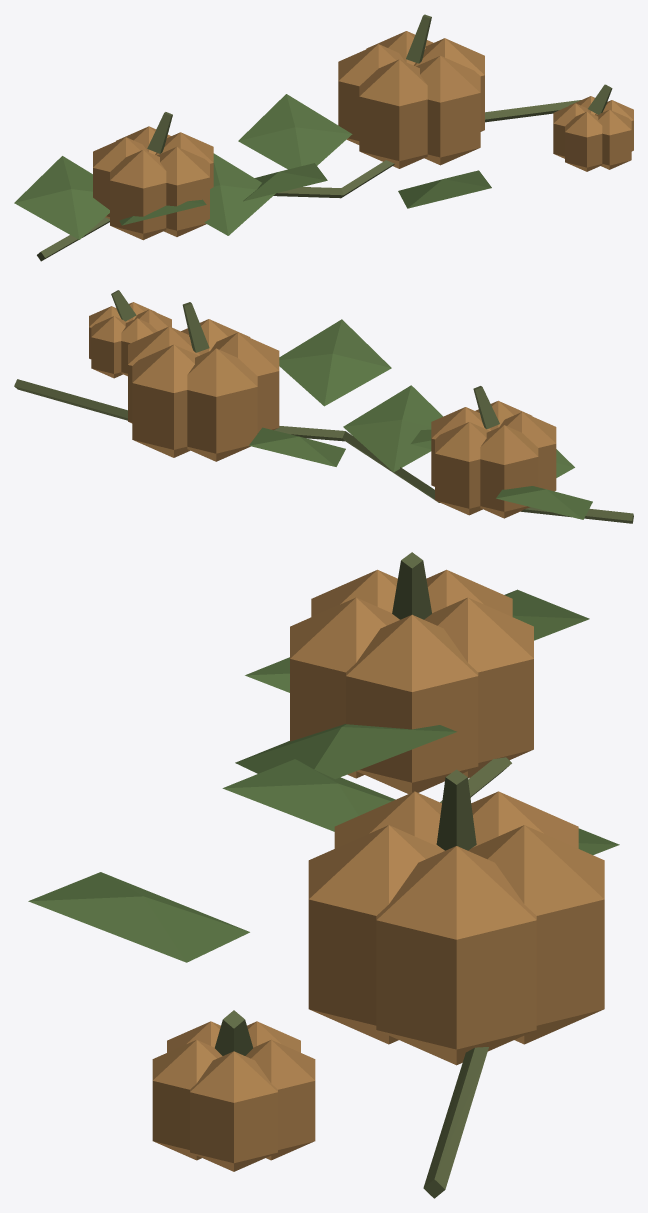
The model's file is Plant_Feature_Pastoral_PumpkinVines_001_LOD1.glb.
3 renders of one model, top to bottom at view 1: azimuth 30°, elevation 25°; view 2: azimuth 150°, elevation 25°; view 3: azimuth 270°, elevation 25°, orthographic. The views are drawn at different scales.
Visible parts, largest first — view 1: Plant_Feature_Pastoral_PumpkinVines_001_LOD1; view 2: Plant_Feature_Pastoral_PumpkinVines_001_LOD1; view 3: Plant_Feature_Pastoral_PumpkinVines_001_LOD1.
Part boxes in pixels (x1,y1,x2,y2): Plant_Feature_Pastoral_PumpkinVines_001_LOD1: (14,14,633,261); Plant_Feature_Pastoral_PumpkinVines_001_LOD1: (14,290,633,523); Plant_Feature_Pastoral_PumpkinVines_001_LOD1: (28,552,619,1198).
Bounding box in the file's own units: 3.01 × 0.6803 × 1.33.
